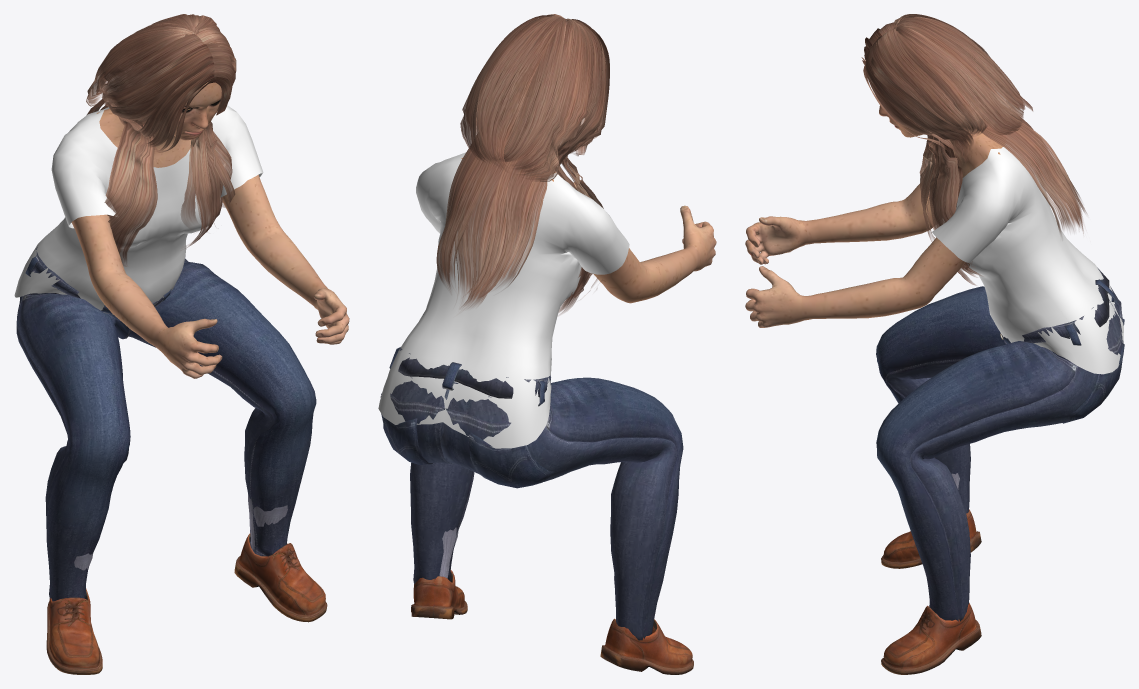
Rendered from donna-05.glb.
The picture shows the model from 3 angles, left to right: view 1: azimuth 30°, elevation 25°; view 2: azimuth 150°, elevation 25°; view 3: azimuth 270°, elevation 25°; orthographic projection. The views are drawn at different scales.
Parts seen in each view (by area): view 1: Human.punkduck_female_tight_jeans, Human.elvs_daisy_hair, Human.joepal_crude_t-shirt_female, Human, Human.shoes01; view 2: Human.punkduck_female_tight_jeans, Human.elvs_daisy_hair, Human.joepal_crude_t-shirt_female, Human.shoes01, Human; view 3: Human.punkduck_female_tight_jeans, Human.elvs_daisy_hair, Human.joepal_crude_t-shirt_female, Human, Human.shoes01.
Boxes of the visible parts, <box> form: Human.punkduck_female_tight_jeans: <box>16,246,316,601</box>; Human.elvs_daisy_hair: <box>86,14,236,266</box>; Human.joepal_crude_t-shirt_female: <box>14,105,263,314</box>; Human: <box>71,36,349,378</box>; Human.shoes01: <box>46,494,327,674</box>; Human.punkduck_female_tight_jeans: <box>380,347,683,640</box>; Human.elvs_daisy_hair: <box>436,14,609,315</box>; Human.joepal_crude_t-shirt_female: <box>378,152,629,448</box>; Human.shoes01: <box>411,527,693,674</box>; Human: <box>461,70,716,303</box>; Human.punkduck_female_tight_jeans: <box>876,267,1124,621</box>; Human.elvs_daisy_hair: <box>861,14,1086,285</box>; Human.joepal_crude_t-shirt_female: <box>931,144,1123,374</box>; Human: <box>745,105,1003,327</box>; Human.shoes01: <box>881,473,981,674</box>.
Size of the model in its own units: 0.5659 by 1.25 by 0.7256.
13 materials, 13 textured.
